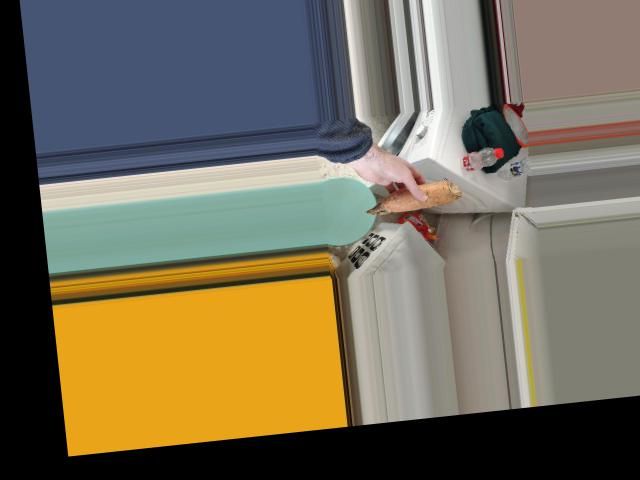sweet_potato: (364, 178, 460, 223)
